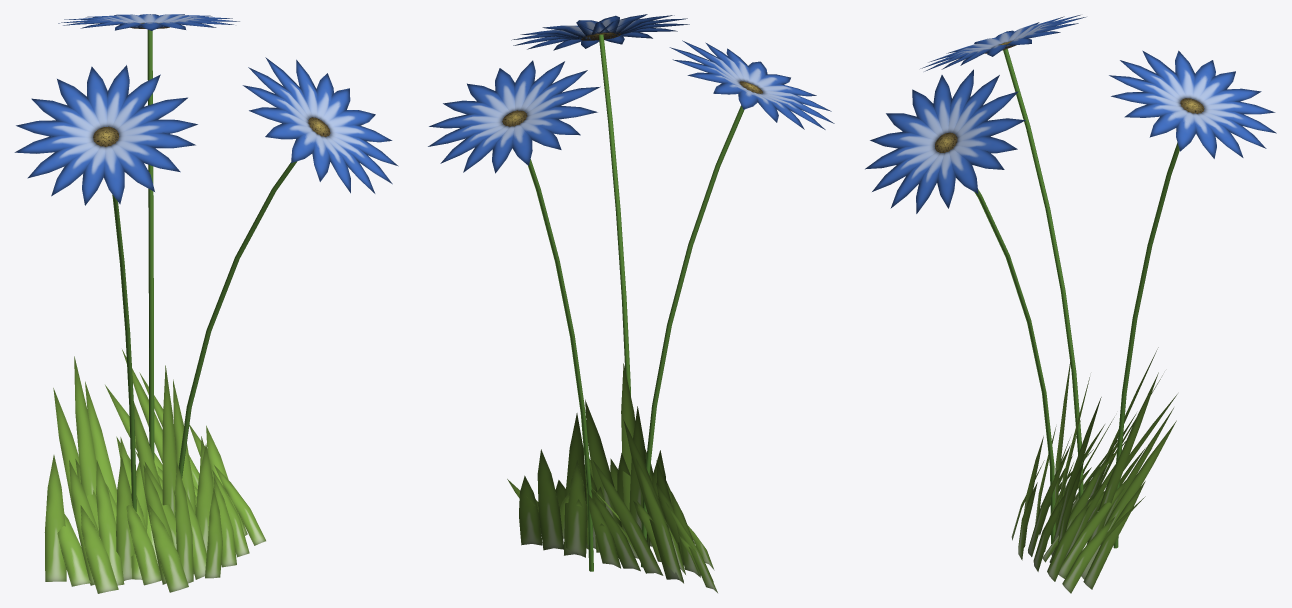
Rendered from planta2.fbx.
3 views of the same model, side by side, from view 1: azimuth 30°, elevation 25°; view 2: azimuth 150°, elevation 25°; view 3: azimuth 270°, elevation 25° (orthographic). The views are drawn at different scales.
Visible parts, largest first — view 1: pPlane60, pCylinder3, pCylinder1, pCylinder2, pPlane55, pPlane27, pPlane59, pPlane49, pPlane32, pPlane31, pPlane20, pPlane28 (+48 smaller); view 2: pCylinder3, pCylinder2, pCylinder1, pPlane40, pPlane39, pPlane54, pPlane53, pPlane26, pPlane27, pPlane47, pPlane55, pPlane41 (+21 smaller); view 3: pCylinder2, pCylinder3, pCylinder1, pPlane41, pPlane40, pPlane47, pPlane36, pPlane44, pPlane43, pPlane14, pPlane10, pPlane26 (+33 smaller).
Boxes of the visible parts, left/top/right/bottom form: pPlane60: left=44, top=455, right=66, bottom=581; pCylinder3: left=147, top=30, right=154, bottom=460; pCylinder1: left=175, top=161, right=297, bottom=517; pCylinder2: left=112, top=194, right=136, bottom=511; pPlane55: left=74, top=356, right=96, bottom=496; pPlane27: left=162, top=365, right=176, bottom=516; pPlane59: left=80, top=505, right=118, bottom=593; pPlane49: left=96, top=459, right=124, bottom=585; pPlane32: left=116, top=456, right=135, bottom=580; pPlane31: left=149, top=504, right=188, bottom=592; pPlane20: left=175, top=461, right=193, bottom=583; pPlane28: left=126, top=505, right=161, bottom=585; pCylinder3: left=528, top=159, right=593, bottom=571; pCylinder2: left=641, top=105, right=744, bottom=567; pCylinder1: left=598, top=34, right=630, bottom=395; pPlane40: left=537, top=449, right=563, bottom=550; pPlane39: left=566, top=460, right=587, bottom=557; pPlane54: left=593, top=460, right=663, bottom=575; pPlane53: left=635, top=457, right=683, bottom=583; pPlane26: left=585, top=399, right=621, bottom=526; pPlane27: left=621, top=363, right=635, bottom=510; pPlane47: left=519, top=475, right=542, bottom=545; pPlane55: left=623, top=419, right=683, bottom=581; pPlane41: left=564, top=413, right=586, bottom=555; pCylinder2: left=1003, top=49, right=1083, bottom=498; pCylinder3: left=1113, top=142, right=1179, bottom=548; pCylinder1: left=974, top=189, right=1055, bottom=543; pPlane41: left=1086, top=372, right=1158, bottom=545; pPlane40: left=1081, top=420, right=1176, bottom=579; pPlane47: left=1083, top=481, right=1145, bottom=589; pPlane36: left=1058, top=476, right=1129, bottom=578; pPlane44: left=1062, top=516, right=1115, bottom=593; pPlane43: left=1047, top=501, right=1089, bottom=581; pPlane14: left=955, top=91, right=1018, bottom=137; pPlane10: left=957, top=118, right=1025, bottom=141; pPlane26: left=1051, top=397, right=1101, bottom=555.
Size of the model in its own units: 0.8059 by 1.19 by 0.8972.
